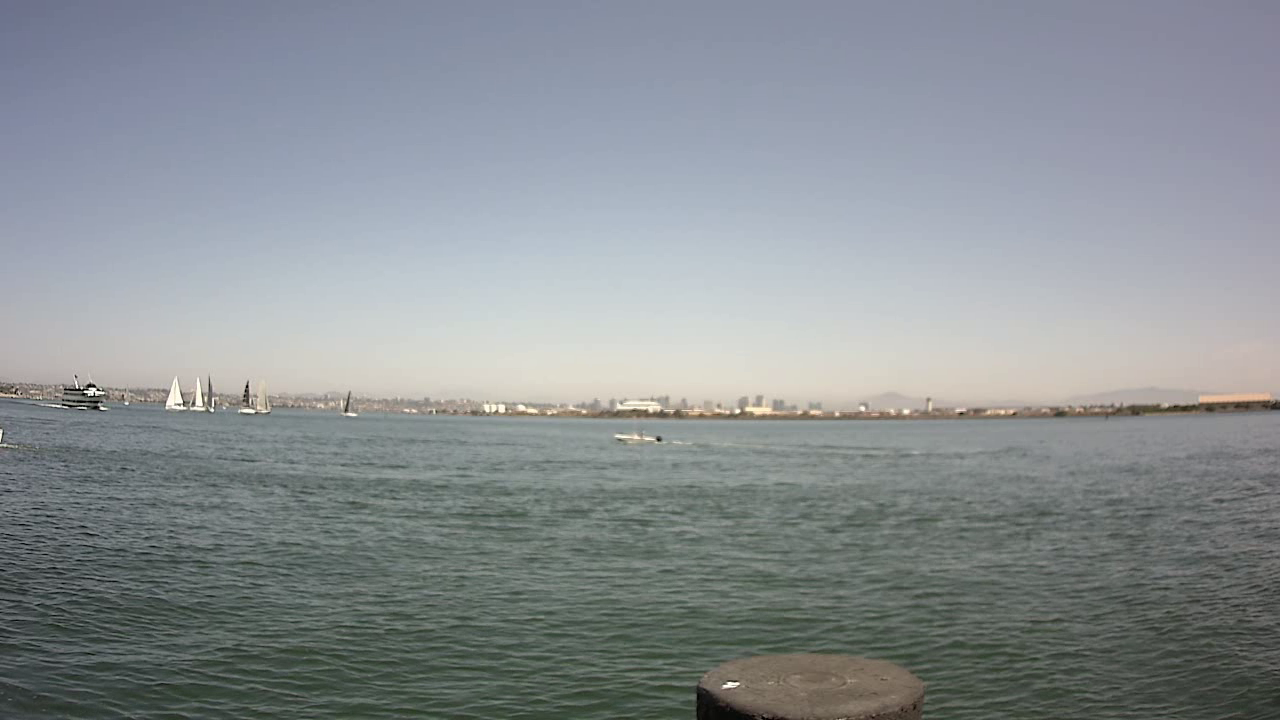target: (610, 421, 670, 450)
